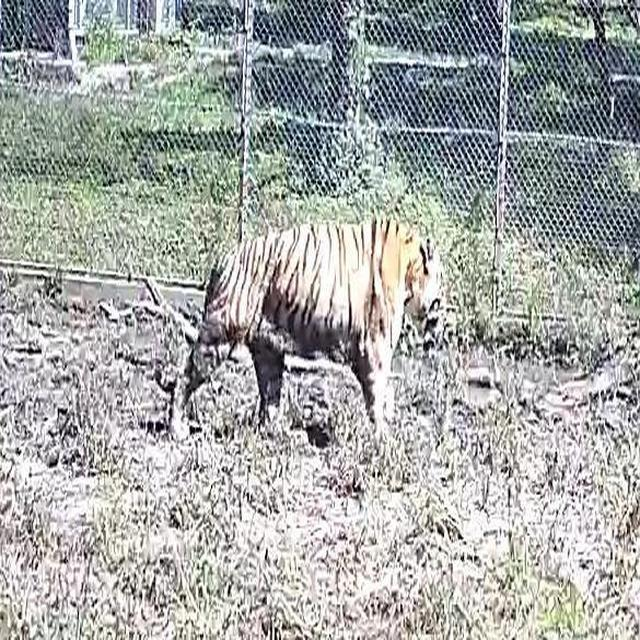tiger: (142, 190, 506, 506)
